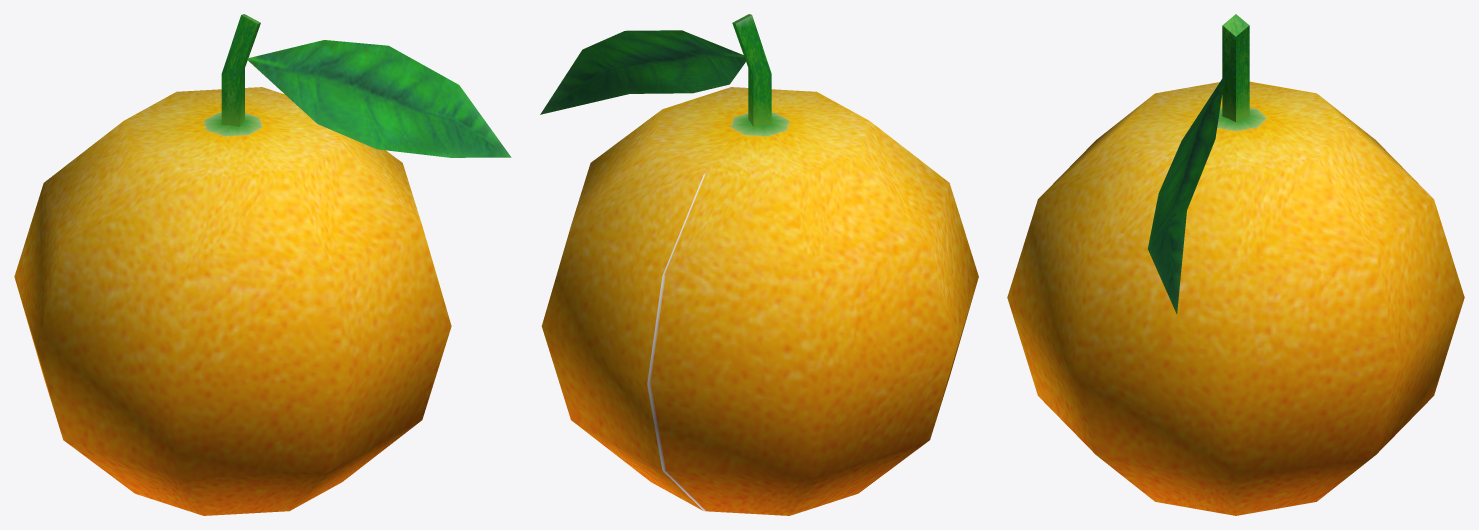
The model's file is orange.fbx.
The picture shows the model from 3 angles, left to right: view 1: azimuth 30°, elevation 25°; view 2: azimuth 150°, elevation 25°; view 3: azimuth 270°, elevation 25°; orthographic projection.
Parts seen in each view (by area): view 1: orange; view 2: orange; view 3: orange.
Part boxes in pixels (<box>): orange: <box>14,14,511,515</box>; orange: <box>540,14,978,515</box>; orange: <box>1007,14,1464,515</box>.
Bounding box in the file's own units: 26.34 × 26.04 × 23.18.
